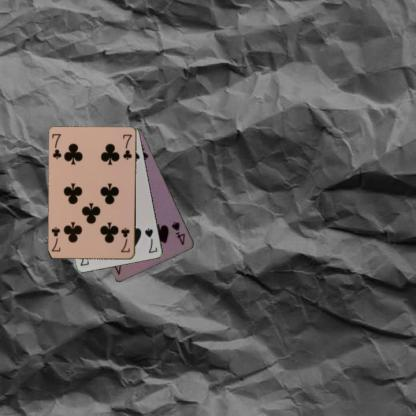4s: (169, 219, 187, 247)
7c: (50, 131, 63, 161), (119, 225, 131, 254)
7s: (143, 225, 159, 254)
